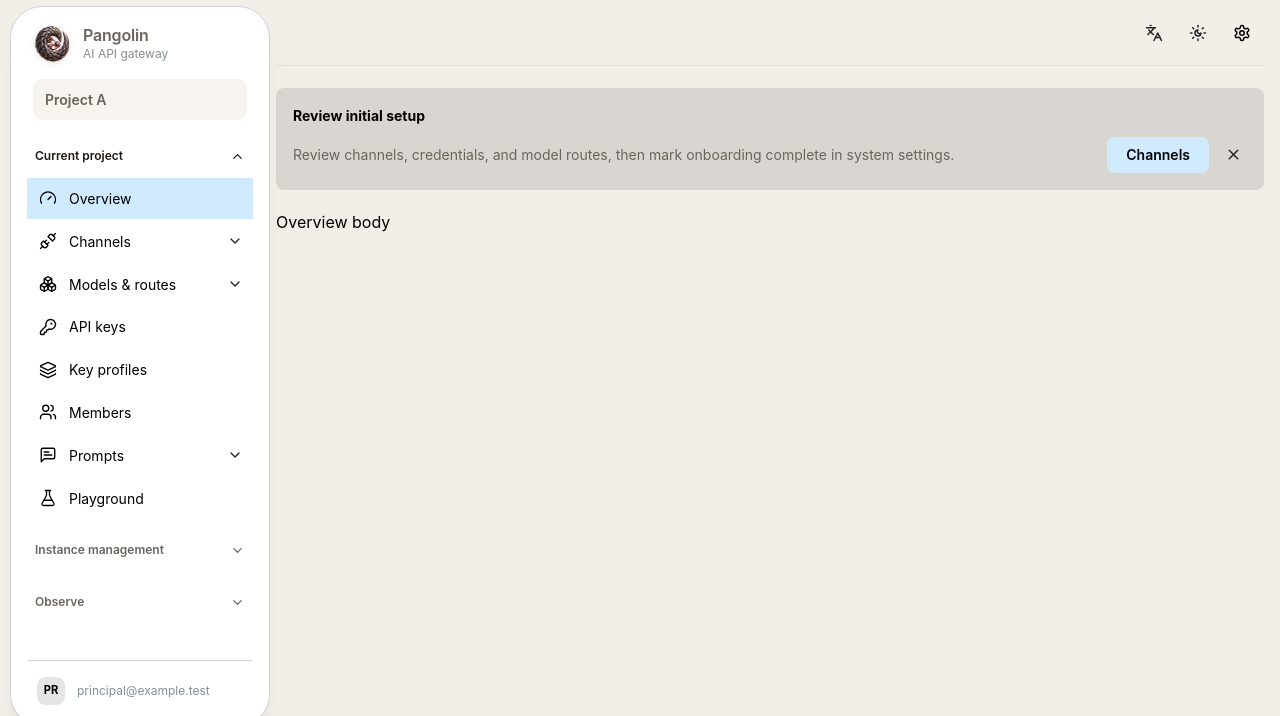
Test case: the first-run guidance is dismissible › can be brought back from the appearance settings
Click the button named "Dismiss". click: (1233, 155)
box: [1219,141,1247,169]
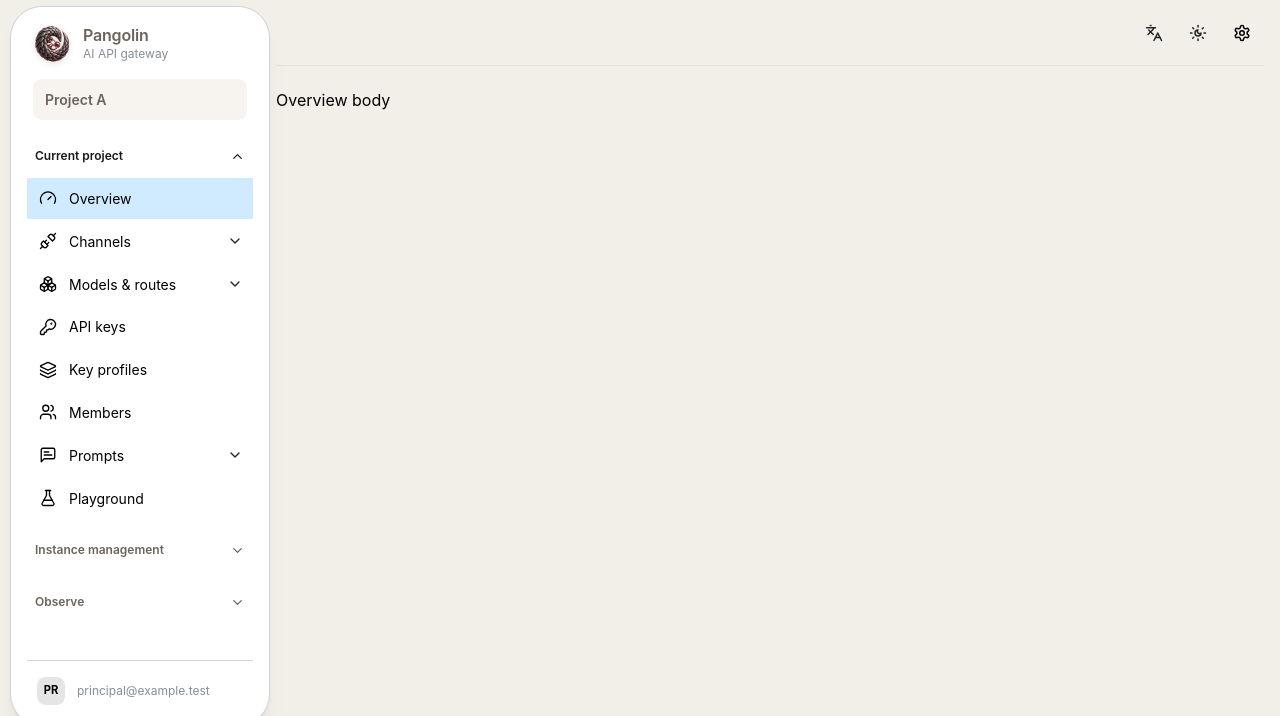
Now the text "Review channels, credentials, and model routes, then mark onboarding complete in system settings." is gone
Click the button "Instance management". click: (140, 550)
box: [27,530,253,570]
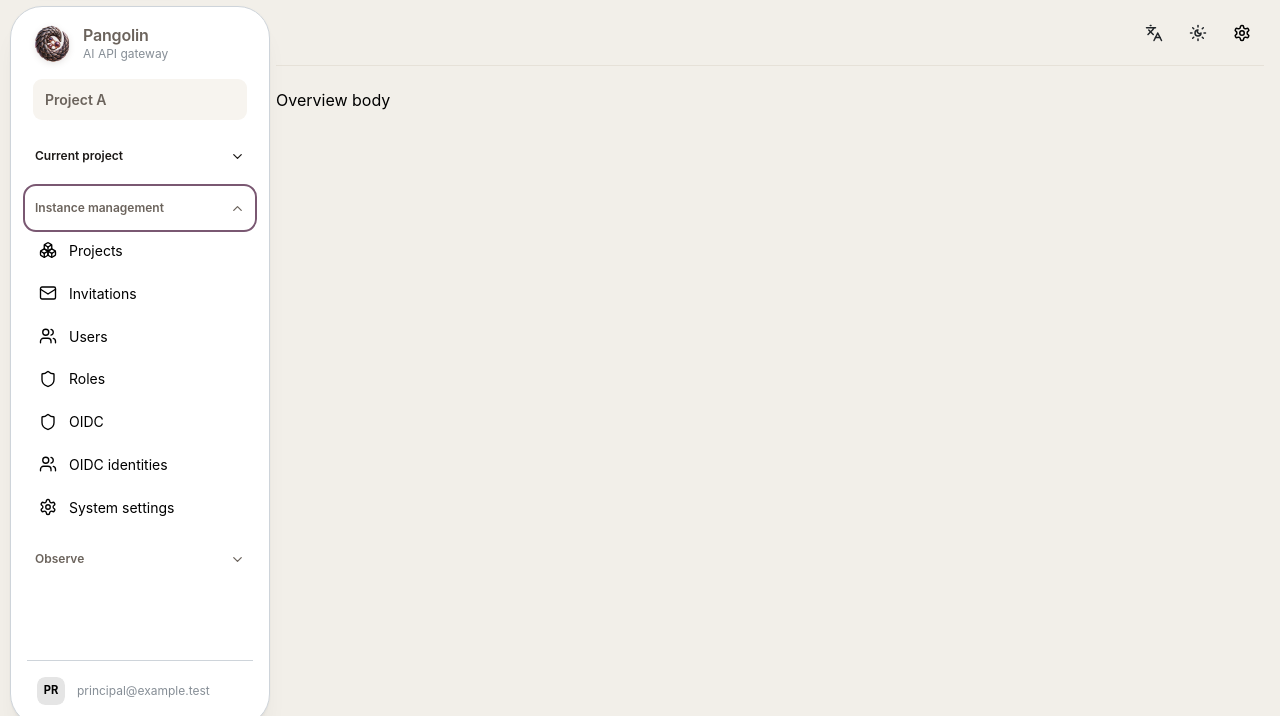
Click the link "System settings". click: (107, 507)
box: [39,498,174,516]
(page scrolled)
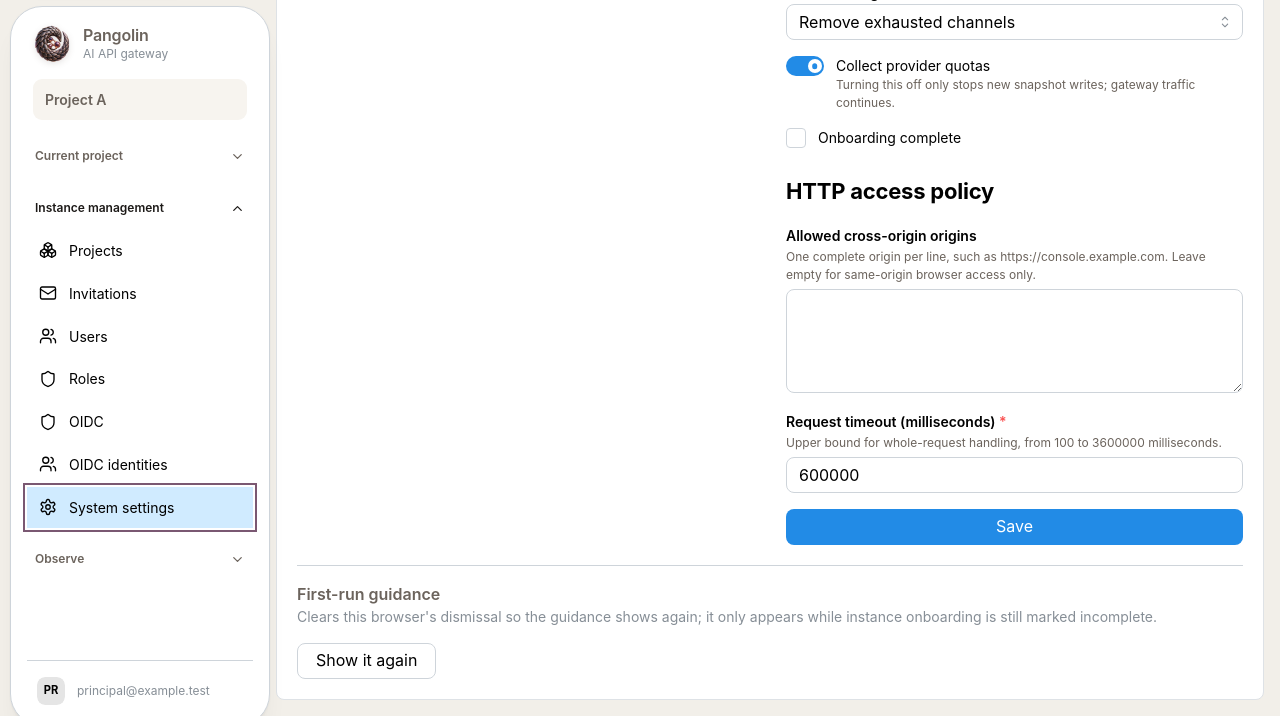
Click the button "Show it again". click: (367, 661)
box: [297,643,436,679]
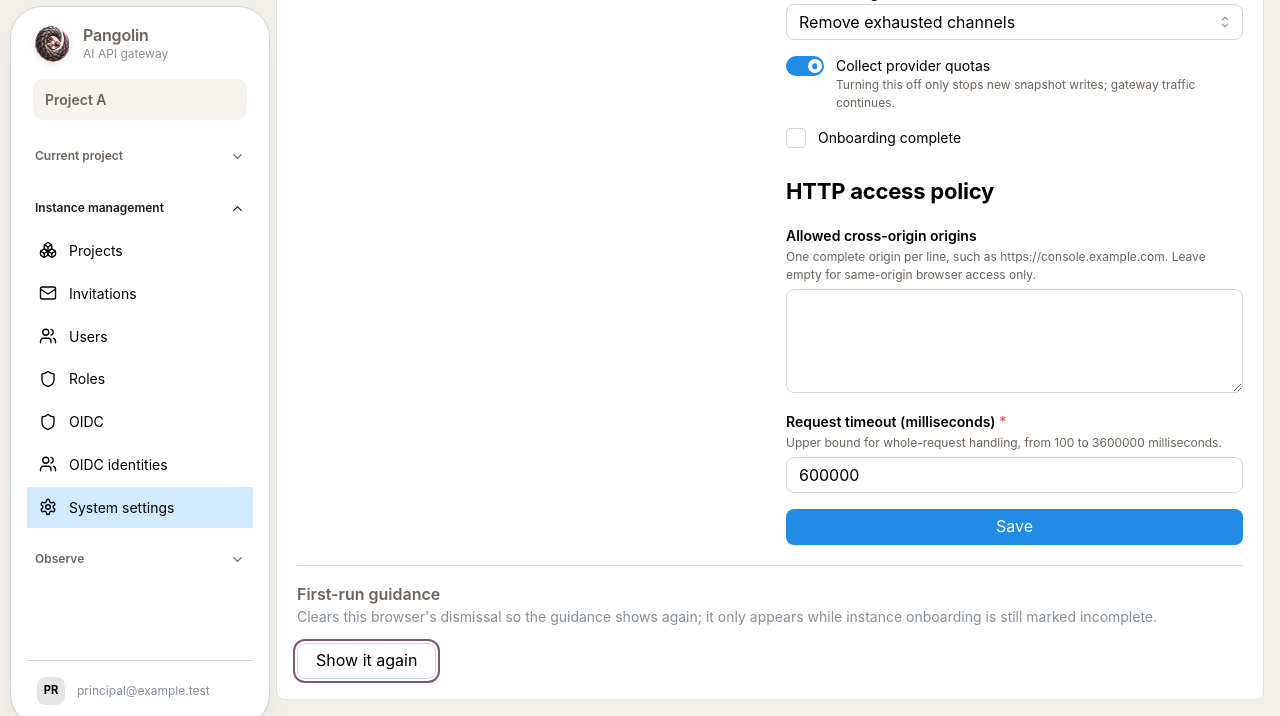
Click the button "Current project". click: (140, 156)
box: [27,136,253,176]
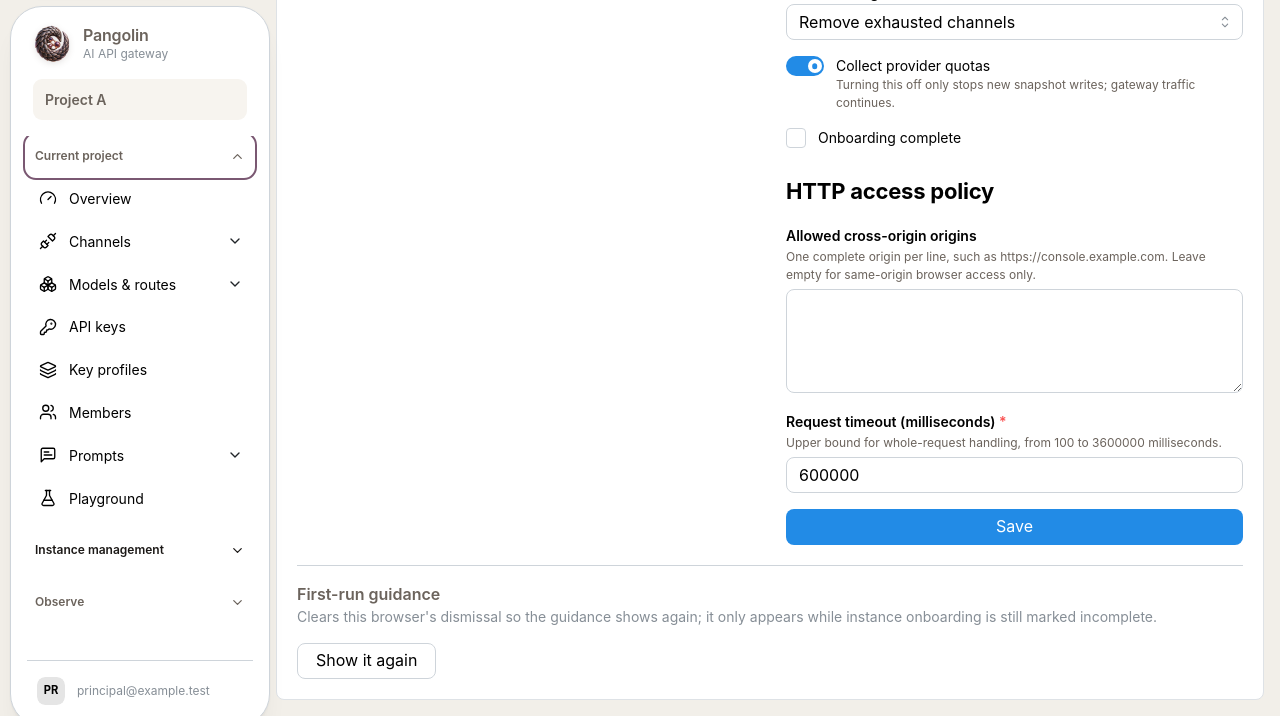
Click the link "Overview". click: (85, 198)
box: [39,189,132,207]
(page scrolled)
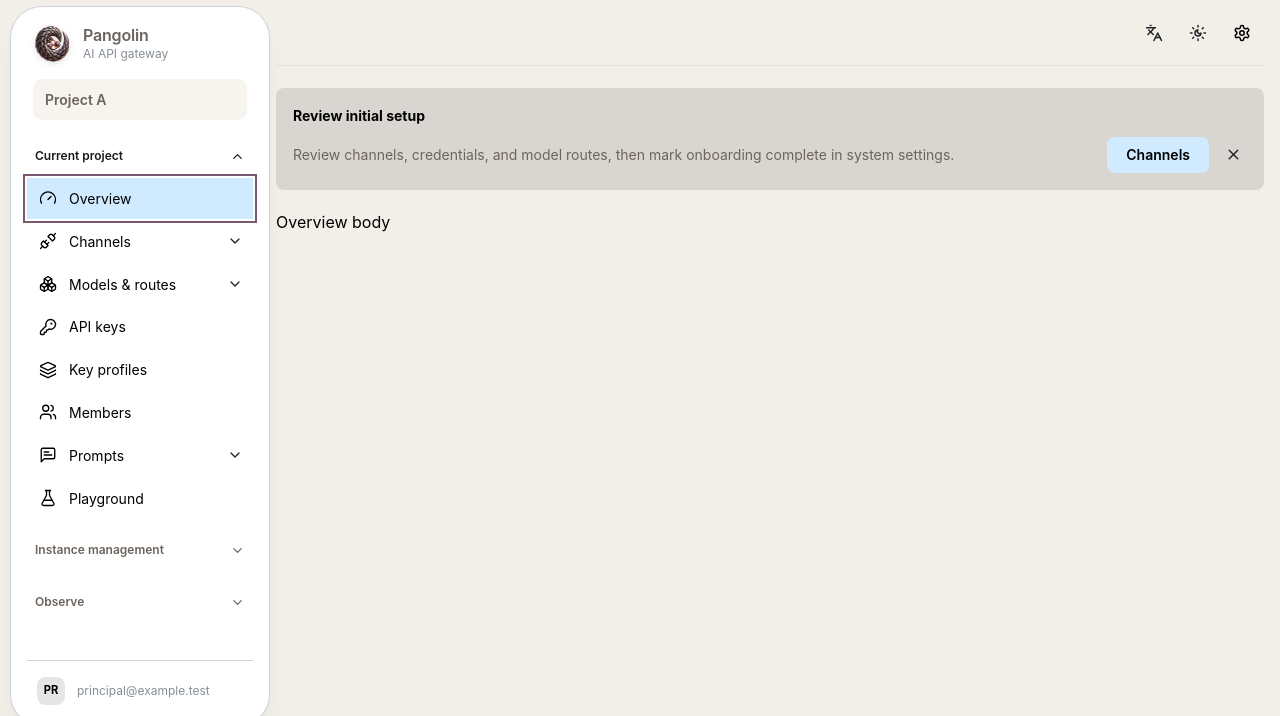
Now the text "Review channels, credentials, and model routes, then mark onboarding complete in system settings." is shown, box [293,146,954,163]
